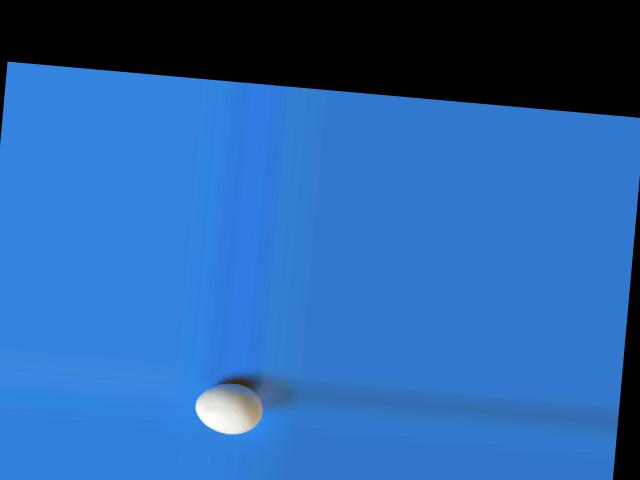egg: (192, 379, 266, 436)
